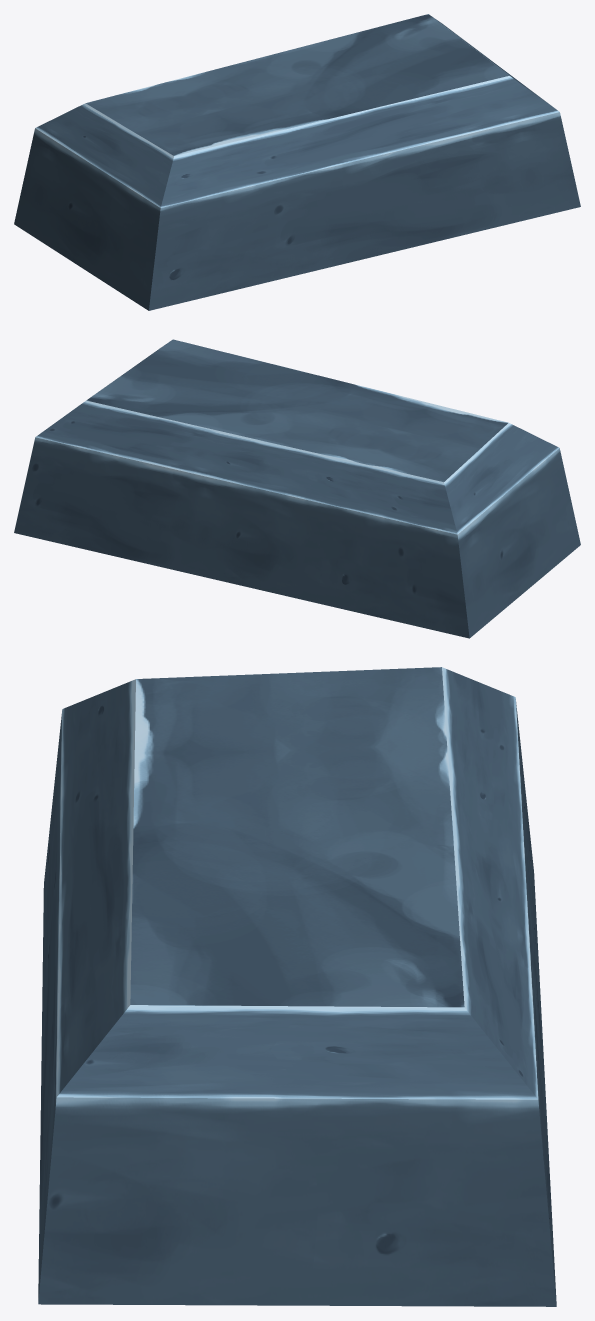
File: SM_PROP_gravestone_base_02.fbx
3 views of the same model, one above another, from view 1: azimuth 30°, elevation 25°; view 2: azimuth 150°, elevation 25°; view 3: azimuth 270°, elevation 25° (orthographic). The views are drawn at different scales.
Parts seen in each view (by area): view 1: SM_PROP_gravestone_base_02; view 2: SM_PROP_gravestone_base_02; view 3: SM_PROP_gravestone_base_02.
Boxes of the visible parts, bbox=[...] form: SM_PROP_gravestone_base_02: bbox=[14, 14, 580, 310]; SM_PROP_gravestone_base_02: bbox=[14, 339, 580, 638]; SM_PROP_gravestone_base_02: bbox=[38, 667, 556, 1306].
Bounding box in the file's own units: 148 × 40 × 74.54.
